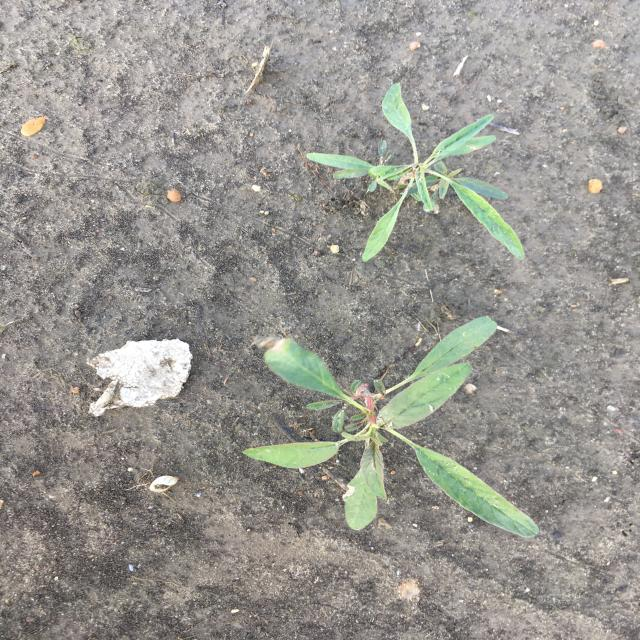Waterhemp: (239, 315, 542, 540), (305, 82, 528, 262)
